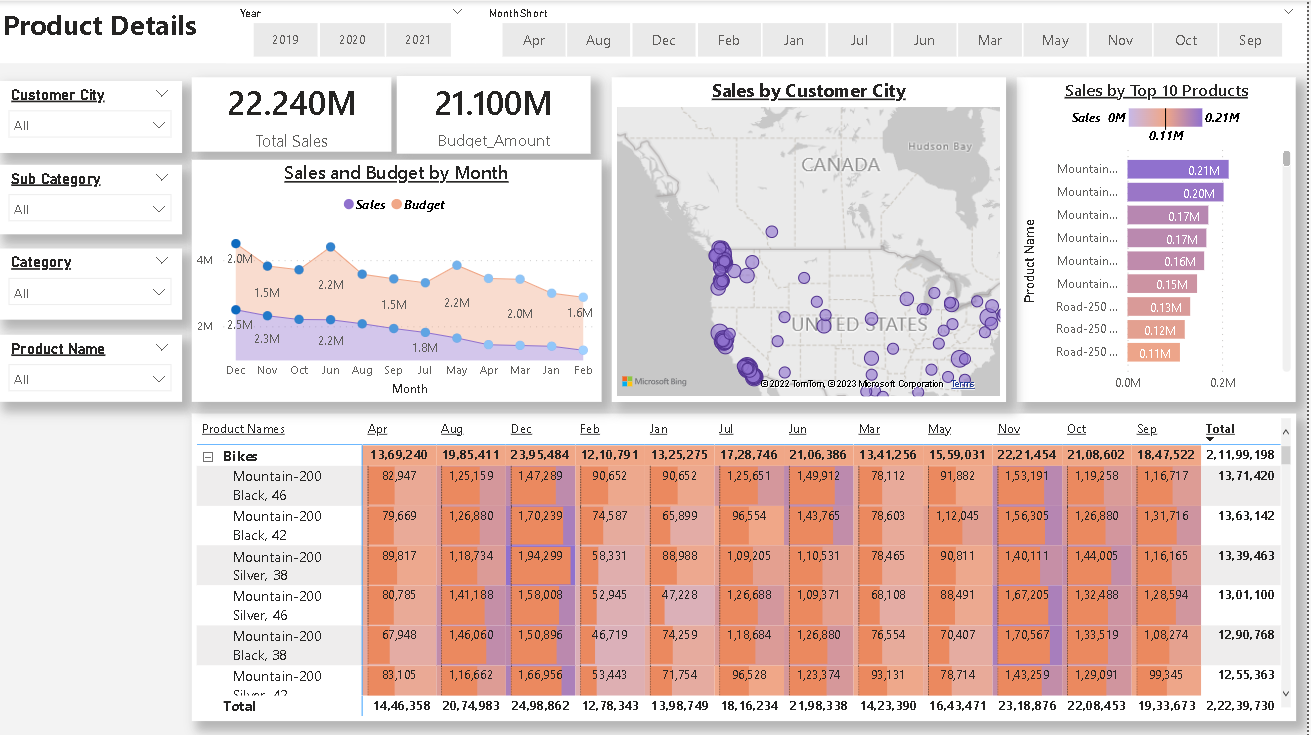

Layout of this report page (visuals, bound fields, positions):
{"tool":"powerbi","page":{"name":"Product Details","canvas":[1280,720],"ordinal":2},"visuals":[{"type":"textbox","box":[0,0,1280,61.1],"z":0},{"type":"slicer","fields":{"Values":["DIM_Customer.Customer City"]},"box":[0,77.8,179.6,70.6],"z":1000},{"type":"slicer","fields":{"Values":["DIM_Products.Sub Category"]},"box":[0,160.4,179.6,68.3],"z":2000},{"type":"slicer","fields":{"Values":["DIM_Products.Product Category"]},"box":[0,241.9,179.6,69.4],"z":3000},{"type":"slicer","fields":{"Values":["DIM_Products.Product Name"]},"box":[0,326.9,179.6,65.9],"z":4000},{"type":"slicer","fields":{"Values":["Dim_Date_Excel.Year"]},"box":[223.9,0,243.1,61.1],"z":5000},{"type":"slicer","fields":{"Values":["Dim_Date_Excel.MonthShort"]},"box":[467,0,813,61.1],"z":6000},{"type":"barChart","title":"Sales by Top 10 Products","fields":{"Y":["Key Measures.Sales"],"Category":["DIM_Products.Product Name"]},"box":[996.6,74.9,272.9,317.4],"z":7000},{"type":"pivotTable","fields":{"Values":["Key Measures.Sales"],"Columns":["Dim_Date_Excel.MonthShort"],"Rows":["DIM_Products.Product Category","DIM_Products.Product Name"]},"box":[189.7,402.9,1079.7,301],"z":8000},{"type":"card","title":"Total Sales","fields":{"Values":["Key Measures.Sales"]},"box":[189.7,74.9,195.6,72.6],"z":9000},{"type":"card","title":"Total Sales","fields":{"Values":["Key Measures.Budget_Amount"]},"box":[389.9,73.3,189.5,75.8],"z":10000},{"type":"stackedAreaChart","fields":{"Category":["Dim_Date_Excel.MonthShort"],"Y":["Key Measures.Sales","Key Measures.Budget_Amount"]},"box":[189.7,155.8,400.5,236.6],"z":11000},{"type":"map","fields":{"Category":["DIM_Customer.Customer City"],"Size":["Key Measures.Sales"]},"box":[599.6,74.9,385.3,317.4],"z":12000}]}

Visuals, with their boxes in screenshot pixels (x1, y1, x2, y2), scaled from the page's 1280x720 canvas onto the 1311x735 screenshot:
textbox: 0, 0, 1310, 62
slicer - DIM_Customer.Customer City: 0, 79, 184, 151
slicer - DIM_Products.Sub Category: 0, 164, 184, 233
slicer - DIM_Products.Product Category: 0, 247, 184, 318
slicer - DIM_Products.Product Name: 0, 334, 184, 401
slicer - Dim_Date_Excel.Year: 229, 0, 478, 62
slicer - Dim_Date_Excel.MonthShort: 478, 0, 1310, 62
"Sales by Top 10 Products" barChart: 1021, 76, 1300, 400
pivotTable - Key Measures.Sales x Dim_Date_Excel.MonthShort: 194, 411, 1300, 719
"Total Sales" card: 194, 76, 395, 151
"Total Sales" card: 399, 75, 593, 152
stackedAreaChart - Dim_Date_Excel.MonthShort x Key Measures.Sales: 194, 159, 604, 401
map - DIM_Customer.Customer City x Key Measures.Sales: 614, 76, 1009, 400
